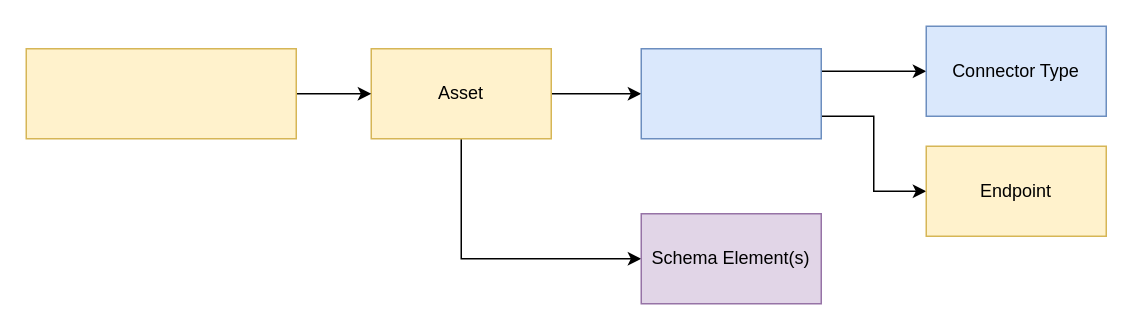
Image size: 1133x330. Some labels were removed from this diagram. Here are the shapes that lost their labels. From the top down, the centre of each, then its label:
At point (160, 93): "Data Manager (SoftwareCapability)".
At point (730, 93): "Connection".
